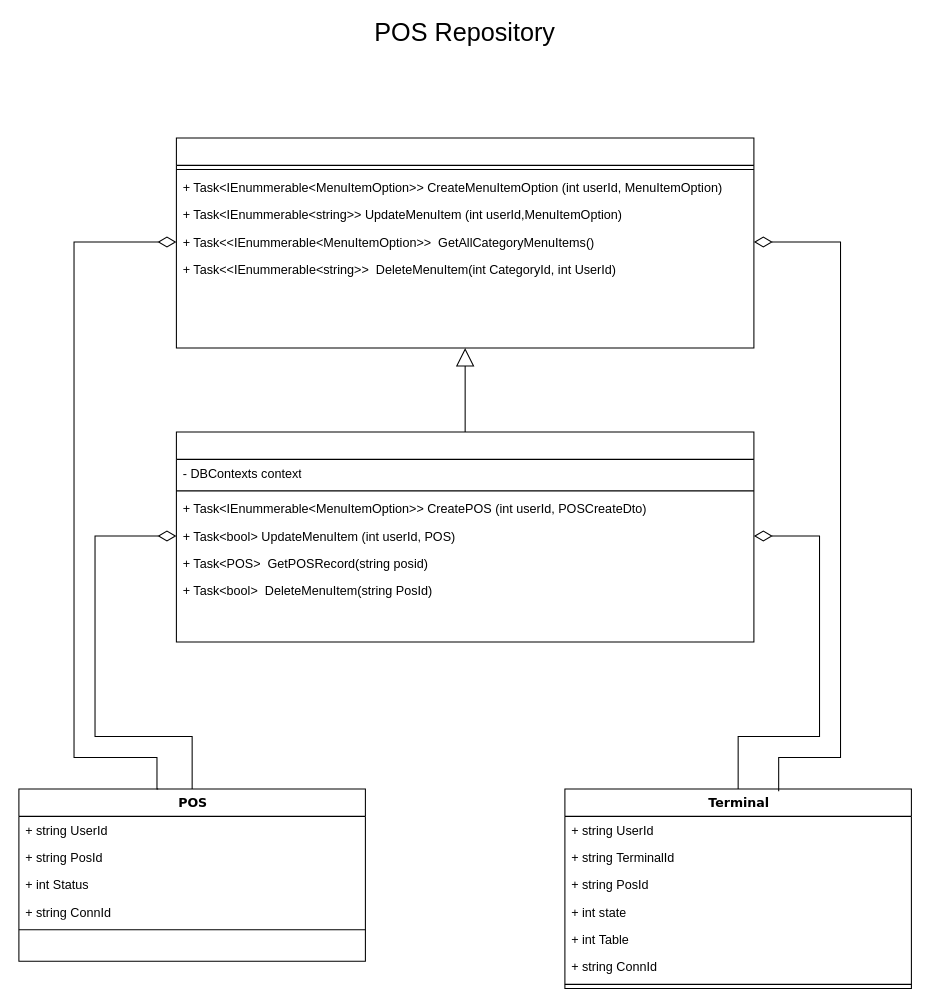
Image size: 929x1007. Some labels were removed from this diagram. The shapes that lost their labels are listed below. From the top down, each one's box as (x1, y1, x2, y2) in pixels, then its label:
(175, 137, 754, 348): IPosRepository
(175, 431, 754, 642): PosRepository
